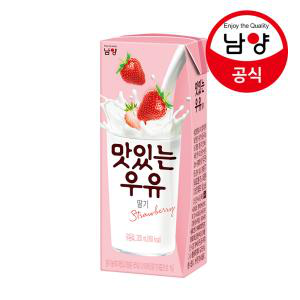milk: (100, 32, 206, 278)
